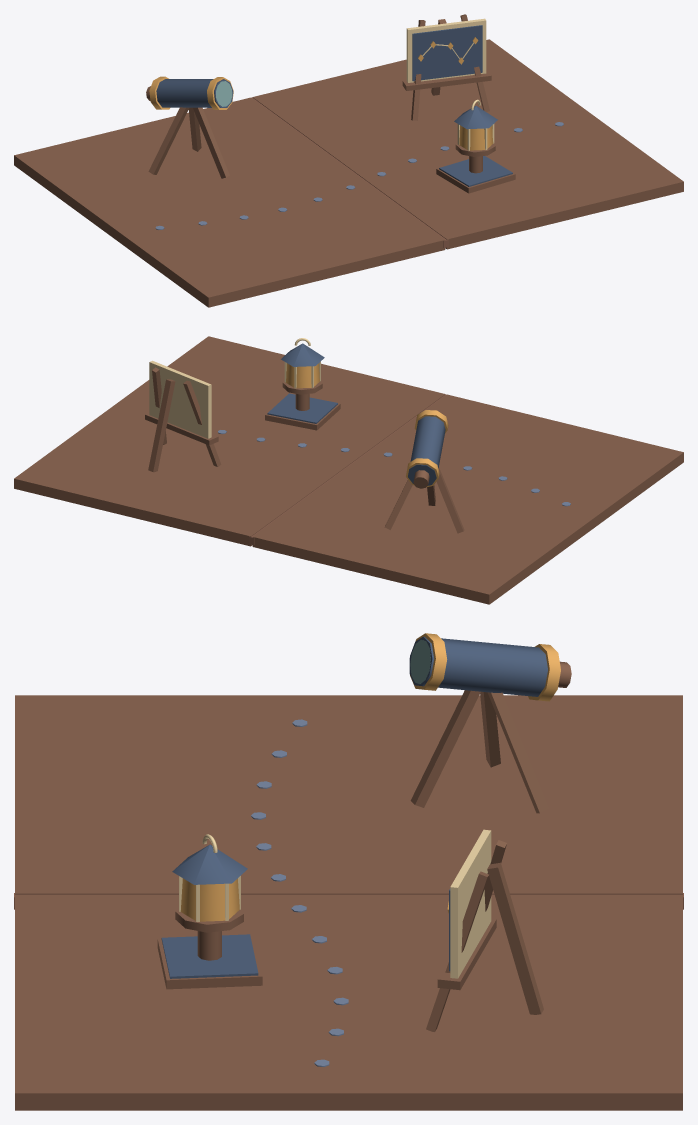
The model's file is observatory.glb.
3 renders of one model, top to bottom at view 1: azimuth 30°, elevation 25°; view 2: azimuth 150°, elevation 25°; view 3: azimuth 270°, elevation 25°, orthographic. The views are drawn at different scales.
Visible parts, largest first — view 1: page_block (×2), sky_print, scope_tube, tripod_leg (×2), chart_back, paper_top, map_ledge, folded_top, paper_diffuser, paper_base; view 2: page_block (×2), chart_back, scope_tube, paper_top, rear_support, paper_diffuser, folded_top, paper_base, easel_leg, tripod_leg, map_ledge; view 3: page_block (×2), scope_tube, tripod_leg (×3), chart_back, paper_top, rear_support, folded_top, paper_diffuser, paper_rim (×2), paper_base, easel_leg, map_ledge (+2 smaller).
Boxes of the visible parts, <box> form: page_block (×2): <box>14,39,683,307</box>; sky_print: <box>412,25,482,81</box>; scope_tube: <box>156,79,233,107</box>; tripod_leg (×2): <box>148,107,229,178</box>; chart_back: <box>406,18,486,82</box>; paper_top: <box>439,156,512,186</box>; map_ledge: <box>402,70,491,90</box>; folded_top: <box>454,106,497,129</box>; paper_diffuser: <box>459,125,493,150</box>; paper_base: <box>436,168,515,193</box>; page_block (×2): <box>14,336,683,604</box>; chart_back: <box>149,360,211,438</box>; scope_tube: <box>408,416,445,485</box>; paper_top: <box>267,393,337,423</box>; rear_support: <box>148,379,175,472</box>; paper_diffuser: <box>285,363,319,388</box>; folded_top: <box>281,343,324,366</box>; paper_base: <box>265,394,340,430</box>; easel_leg: <box>183,380,221,466</box>; tripod_leg: <box>436,467,464,533</box>; map_ledge: <box>145,413,218,445</box>; page_block (×2): <box>15,695,682,1110</box>; scope_tube: <box>409,636,547,696</box>; tripod_leg (×3): <box>410,690,549,813</box>; chart_back: <box>450,829,491,978</box>; paper_top: <box>161,934,258,978</box>; rear_support: <box>487,862,543,1014</box>; folded_top: <box>172,844,247,884</box>; paper_diffuser: <box>180,878,239,921</box>; paper_rim (×2): <box>410,633,560,701</box>; paper_base: <box>157,935,262,989</box>; easel_leg: <box>426,871,489,1031</box>; map_ledge: <box>437,918,496,990</box>.
Bounding box in the file's own units: 8.89 × 1.93 × 6.32.
